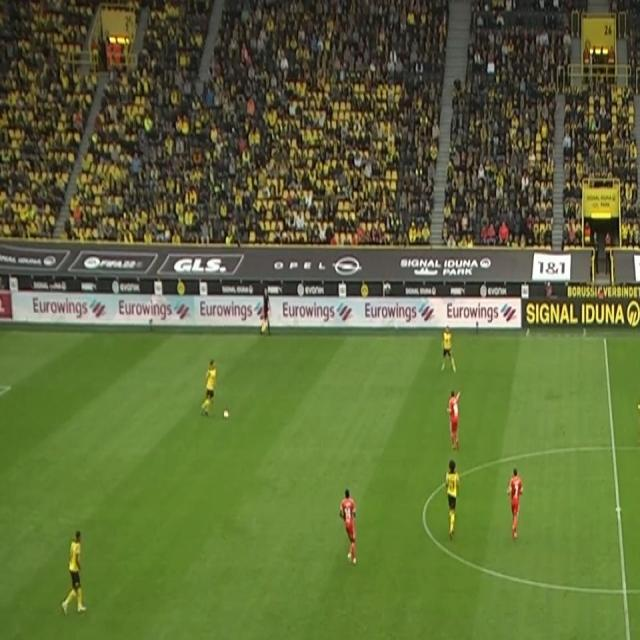ball: (222, 407, 230, 420)
